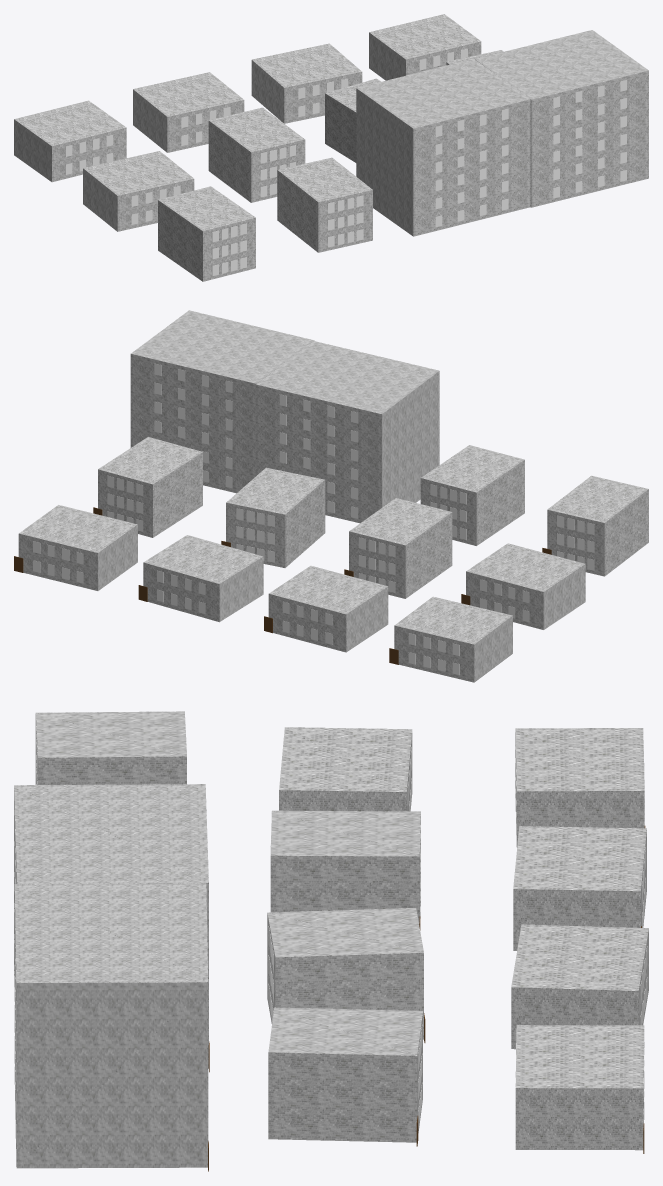
The model's file is bld_mlnegnsz_hk42zzk.glb.
3 renders of one model, top to bottom at view 1: azimuth 30°, elevation 25°; view 2: azimuth 150°, elevation 25°; view 3: azimuth 270°, elevation 25°, orthographic. The views are drawn at different scales.
Parts seen in each view (by area): view 1: building-building-1771139044700-18, building-building-1771139044700-19, building-building-1771139044700-16, building-building-1771139044700-17, building-building-1771139044700-6, building-building-1771139044700-12, building-building-1771139044700-7, building-building-1771139044700-11, building-building-1771139044700-8, building-building-1771139044700-9, building-building-1771139044700-13; view 2: building-building-1771139044700-18, building-building-1771139044700-19, building-building-1771139044700-8, building-building-1771139044700-7, building-building-1771139044700-14, building-building-1771139044700-9, building-building-1771139044700-6, building-building-1771139044700-12, building-building-1771139044700-16, building-building-1771139044700-11, building-building-1771139044700-13, building-building-1771139044700-17; view 3: building-building-1771139044700-19, building-building-1771139044700-14, building-building-1771139044700-18, building-building-1771139044700-9, building-building-1771139044700-13, building-building-1771139044700-12, building-building-1771139044700-8, building-building-1771139044700-7, building-building-1771139044700-6, building-building-1771139044700-16, building-building-1771139044700-11.
Part boxes in pixels (bbox=[...]): building-building-1771139044700-18: bbox=[356, 58, 530, 236]; building-building-1771139044700-19: bbox=[475, 30, 648, 207]; building-building-1771139044700-16: bbox=[158, 186, 255, 281]; building-building-1771139044700-17: bbox=[277, 157, 372, 252]; building-building-1771139044700-6: bbox=[14, 100, 126, 182]; building-building-1771139044700-12: bbox=[208, 107, 305, 202]; building-building-1771139044700-7: bbox=[133, 72, 244, 152]; building-building-1771139044700-11: bbox=[83, 151, 194, 231]; building-building-1771139044700-8: bbox=[251, 43, 362, 123]; building-building-1771139044700-9: bbox=[369, 14, 481, 80]; building-building-1771139044700-13: bbox=[325, 78, 381, 162]; building-building-1771139044700-18: bbox=[256, 341, 439, 523]; building-building-1771139044700-19: bbox=[130, 310, 314, 493]; building-building-1771139044700-8: bbox=[138, 535, 263, 622]; building-building-1771139044700-7: bbox=[264, 565, 388, 652]; building-building-1771139044700-14: bbox=[93, 437, 202, 537]; building-building-1771139044700-9: bbox=[14, 505, 137, 590]; building-building-1771139044700-6: bbox=[389, 596, 512, 682]; building-building-1771139044700-12: bbox=[344, 498, 452, 598]; building-building-1771139044700-16: bbox=[542, 475, 648, 576]; building-building-1771139044700-11: bbox=[461, 543, 585, 629]; building-building-1771139044700-13: bbox=[221, 467, 325, 567]; building-building-1771139044700-17: bbox=[420, 445, 524, 545]; building-building-1771139044700-19: bbox=[14, 883, 208, 1171]; building-building-1771139044700-14: bbox=[268, 1007, 422, 1146]; building-building-1771139044700-18: bbox=[14, 784, 209, 1072]; building-building-1771139044700-9: bbox=[515, 1025, 644, 1153]; building-building-1771139044700-13: bbox=[267, 908, 425, 1042]; building-building-1771139044700-12: bbox=[270, 810, 420, 930]; building-building-1771139044700-8: bbox=[511, 924, 648, 1049]; building-building-1771139044700-7: bbox=[513, 826, 646, 950]; building-building-1771139044700-6: bbox=[515, 728, 645, 847]; building-building-1771139044700-16: bbox=[35, 711, 186, 784]; building-building-1771139044700-11: bbox=[279, 727, 412, 811].
Bounding box in the file's own units: 84.95 × 19.23 × 59.62.
60 materials, 12 textured.
